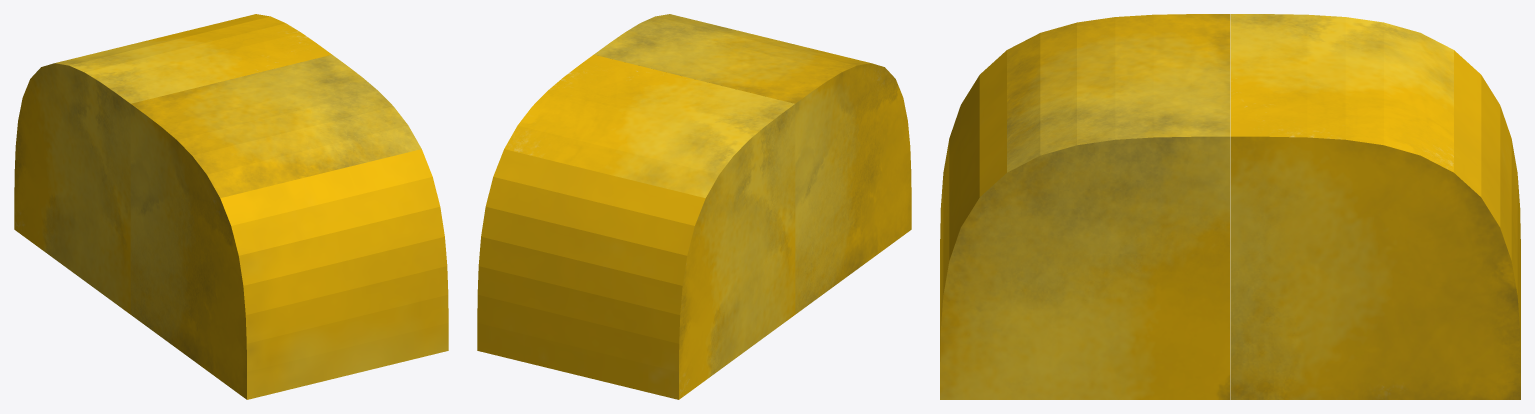
Rendered from normalCBullet.obj.
3 views of the same model, side by side, from view 1: azimuth 30°, elevation 25°; view 2: azimuth 150°, elevation 25°; view 3: azimuth 270°, elevation 25° (orthographic). The views are drawn at different scales.
Visible parts, largest first — view 1: 立方体; view 2: 立方体; view 3: 立方体.
Boxes of the visible parts, x1=… form: 立方体: x1=14, y1=14, x2=448, y2=399; 立方体: x1=477, y1=14, x2=911, y2=399; 立方体: x1=940, y1=14, x2=1520, y2=399.
Size of the model in its own units: 0.4 by 0.4 by 0.8001.
Materials: 1 (1 with a texture image).
